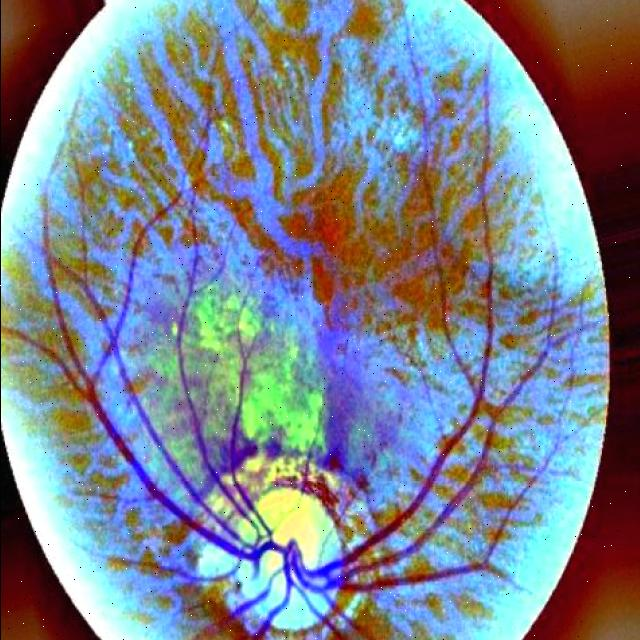Macula: (270, 182, 372, 308)
Nerves: (252, 45, 496, 577), (297, 412, 500, 595), (86, 369, 243, 559)
Optic Disk: (200, 471, 361, 640)
